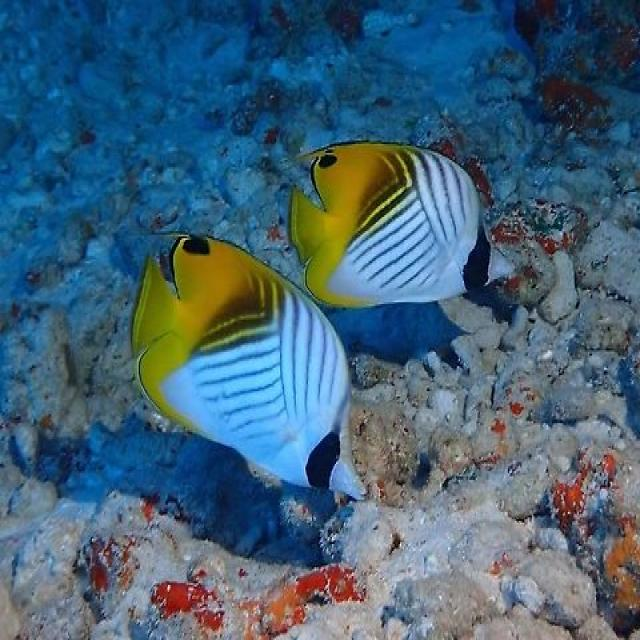ButterflyFish: (133, 242, 369, 506), (287, 140, 514, 310)
